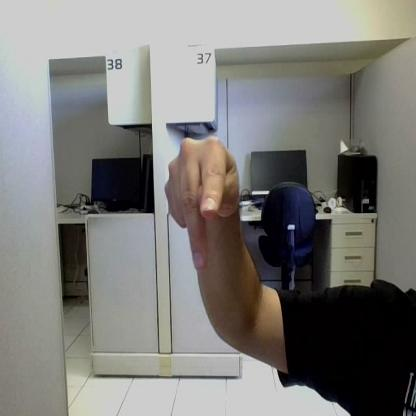P: (164, 136, 238, 270)
